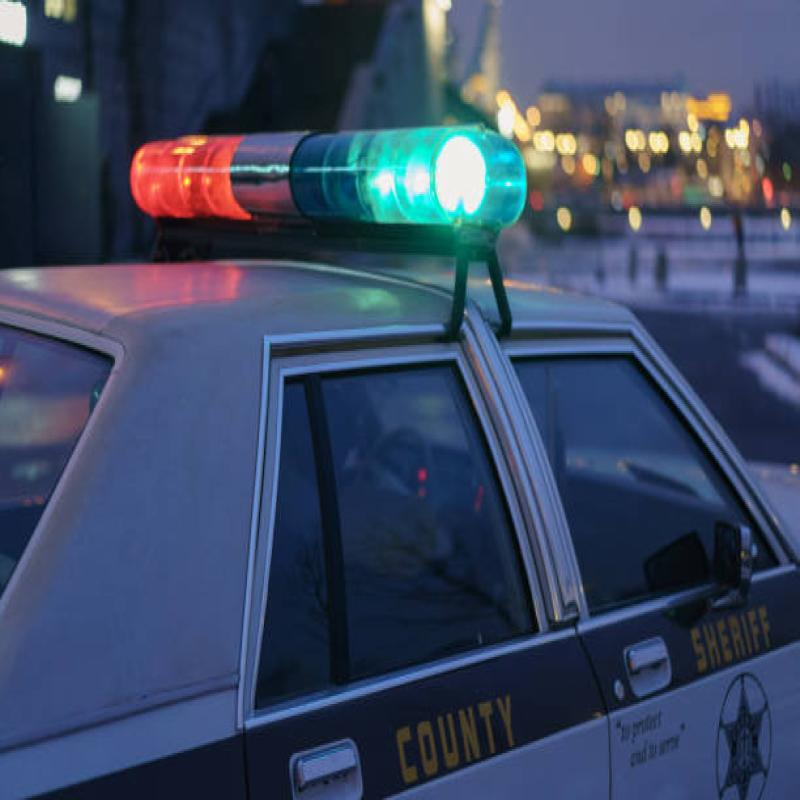AmbulanceSiren: (125, 104, 509, 261)
